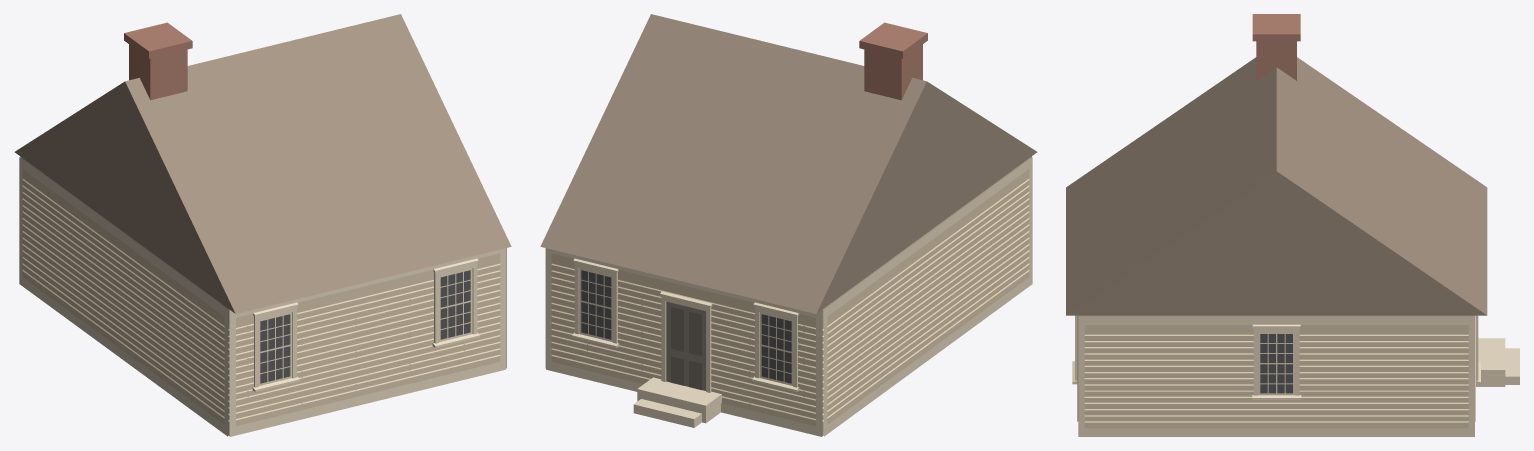
File: recon_1835_north_d4_087__inferred_1835.glb
The picture shows the model from 3 angles, left to right: view 1: azimuth 30°, elevation 25°; view 2: azimuth 150°, elevation 25°; view 3: azimuth 270°, elevation 25°; orthographic projection. The views are drawn at different scales.
Visible parts, largest first — view 1: recon_1835_north_d4_087__inferred_1835; view 2: recon_1835_north_d4_087__inferred_1835; view 3: recon_1835_north_d4_087__inferred_1835.
Part boxes in pixels (box(x1,y1,x2,y2)): recon_1835_north_d4_087__inferred_1835: box(14, 14, 511, 436); recon_1835_north_d4_087__inferred_1835: box(540, 14, 1037, 436); recon_1835_north_d4_087__inferred_1835: box(1066, 14, 1519, 436).
Bounding box in the file's own units: 6.38 × 6.79 × 9.32.
